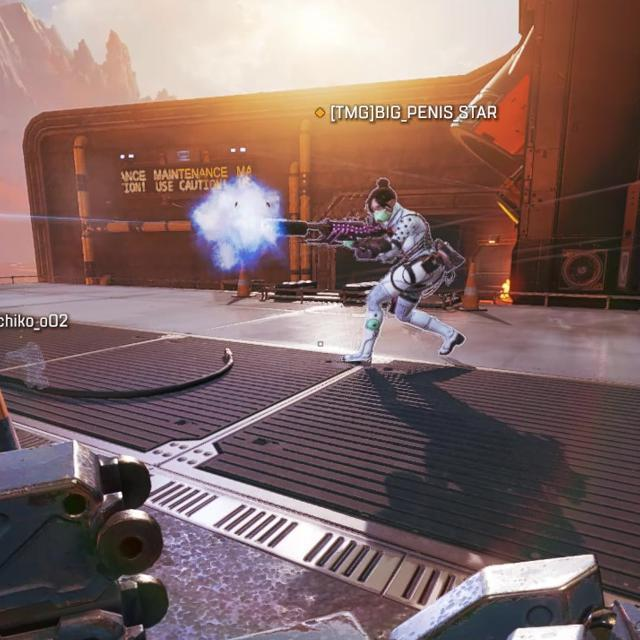avatar: (337, 176, 468, 366)
object: (189, 173, 283, 274)
